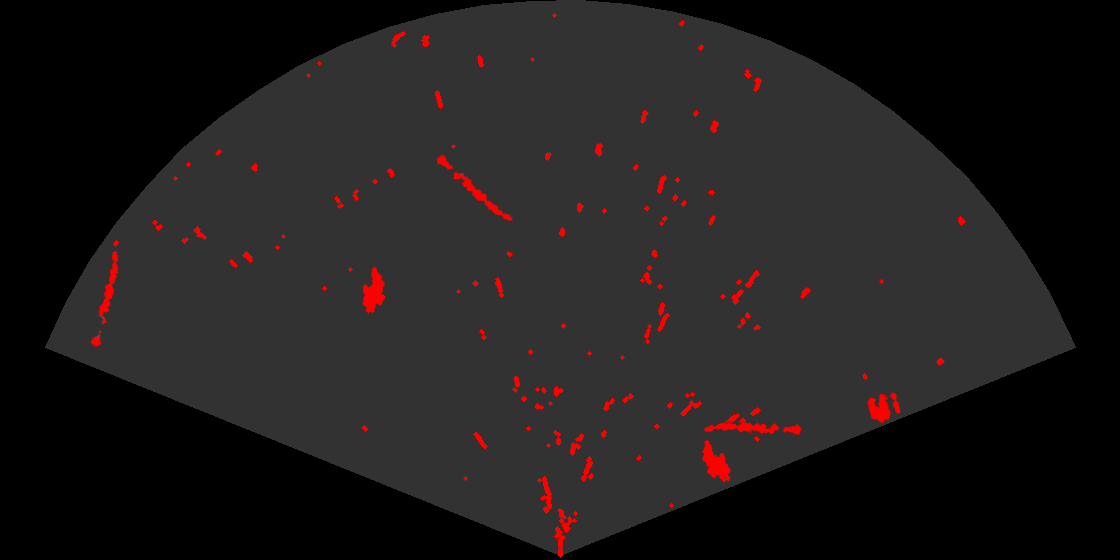AUV: (701, 438, 732, 484), (361, 265, 387, 315)
ball: (866, 391, 902, 425)
chain: (435, 153, 514, 223), (89, 249, 120, 349), (702, 421, 803, 436)
